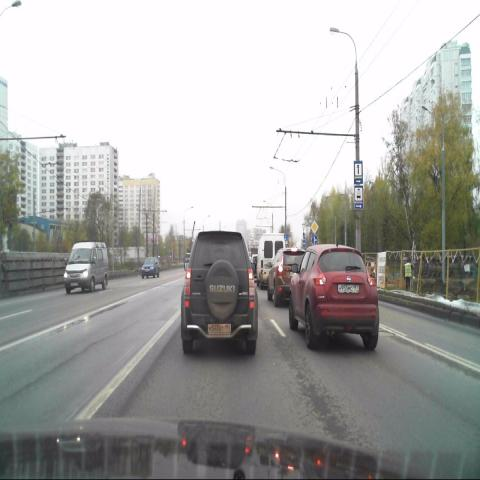2_1: (311, 219, 319, 234)
4_1_4: (312, 233, 317, 245)
7_4: (354, 161, 363, 184)
7_5: (354, 185, 363, 210)
